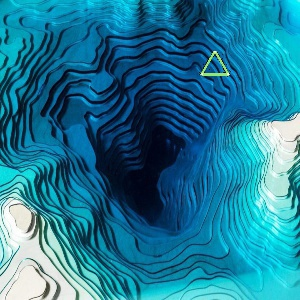triangle: (196, 47, 233, 80)
